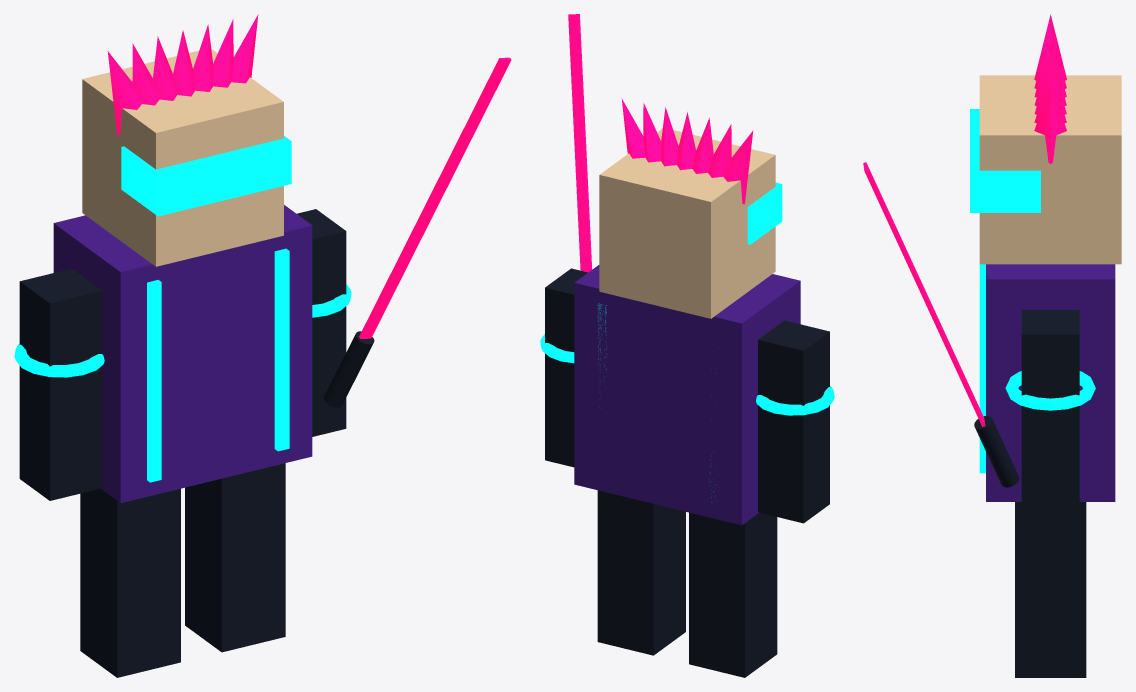
The model's file is avatar_cyberpunk.glb.
3 renders of one model, left to right at view 1: azimuth 30°, elevation 25°; view 2: azimuth 150°, elevation 25°; view 3: azimuth 270°, elevation 25°, orthographic. The views are drawn at different scales.
Parts seen in each view (by area): view 1: CyberJacket, Head, CyberArm_0, CyberLeg_0, CyberLeg_1, CyberVisor, CyberArm_1, CyberHair, Avatar_cyberpunk, PlasmaKatana; view 2: CyberJacket, Head, CyberArm_0, CyberLeg_0, CyberLeg_1, CyberArm_1, CyberHair, PlasmaKatana, CyberVisor; view 3: Head, CyberJacket, CyberArm_1, CyberLeg_1, CyberVisor, PlasmaKatana, CyberHair, Avatar_cyberpunk.
Part boxes in pixels (x1,y1,x2,y2): CyberJacket: (53,205,312,503); Head: (82,49,283,266); CyberArm_0: (14,268,104,500); CyberLeg_0: (80,488,180,677); CyberLeg_1: (185,463,285,652); CyberVisor: (121,136,291,216); CyberArm_1: (297,209,351,436); CyberHair: (107,14,258,135); Avatar_cyberpunk: (147,248,289,482); PlasmaKatana: (324,57,511,407); CyberJacket: (574,265,800,525); Head: (599,129,775,318); CyberArm_0: (756,320,834,523); CyberLeg_0: (689,512,777,677); CyberLeg_1: (597,490,685,655); CyberArm_1: (540,268,587,467); CyberHair: (621,98,753,204); PlasmaKatana: (568,14,592,272); CyberVisor: (747,182,782,244); Head: (979,75,1121,264); CyberJacket: (986,264,1115,501); CyberArm_1: (1005,310,1095,524); CyberLeg_1: (1015,502,1086,677); CyberVisor: (970,109,1040,212); PlasmaKatana: (863,162,1019,487); CyberHair: (1034,14,1066,163); Avatar_cyberpunk: (979,264,985,473).
Bounding box in the file's own units: 1.36 × 2.02 × 0.8002.
